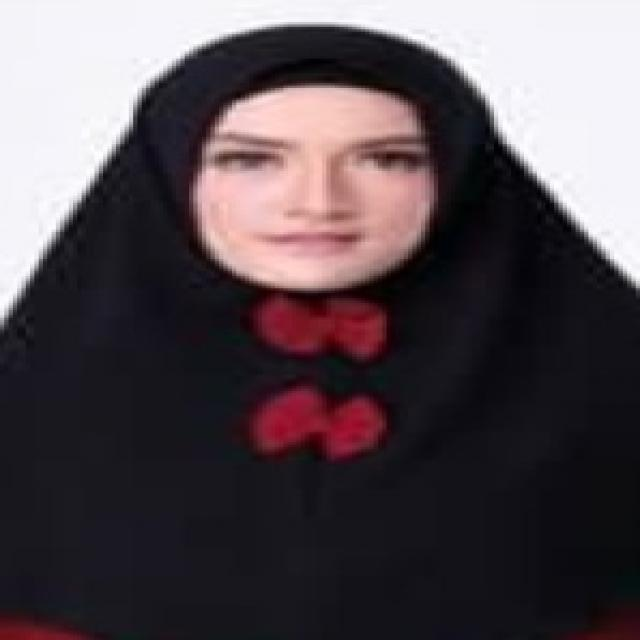head: (128, 23, 494, 313)
